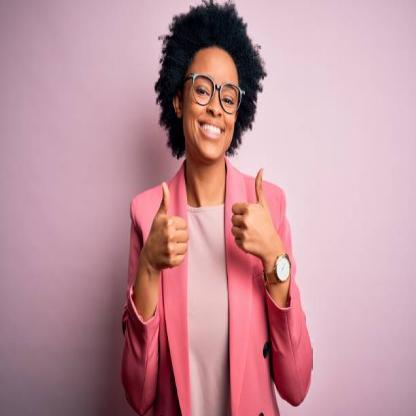thumb_up: (143, 179, 190, 271), (228, 166, 275, 257)
